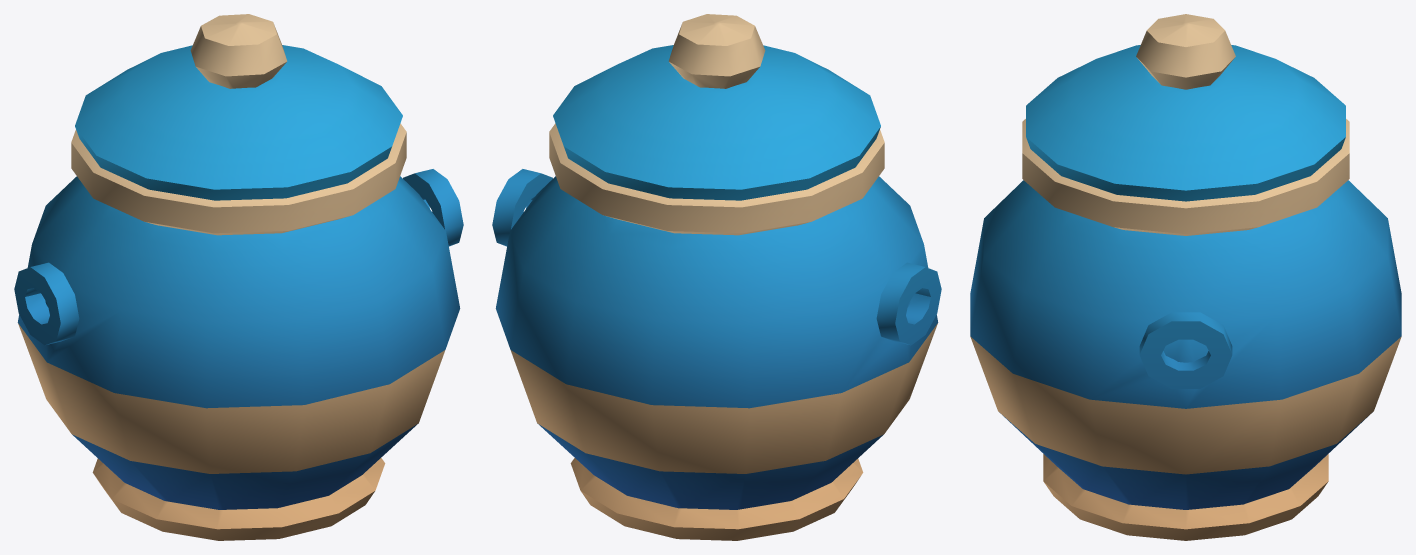
Rendered from urn_wide.glb.
3 renders of one model, left to right at view 1: azimuth 30°, elevation 25°; view 2: azimuth 150°, elevation 25°; view 3: azimuth 270°, elevation 25°, orthographic.
Visible parts, largest first — view 1: urn_wide; view 2: urn_wide; view 3: urn_wide.
Boxes of the visible parts, box(x1,y1,x2,y2) form: urn_wide: box(14, 14, 463, 540); urn_wide: box(492, 14, 941, 540); urn_wide: box(970, 14, 1401, 540).
Bounding box in the file's own units: 1.3 × 1.42 × 1.21.
1 material, 1 textured.
